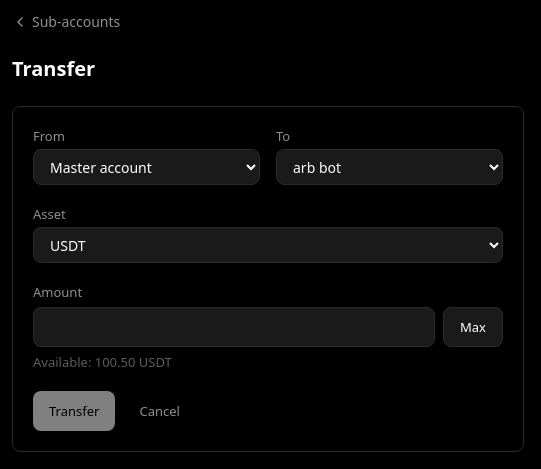
Scenario: Transfer › offers only unfrozen accounts, never the same one on both sides, and caps at the sender's balance
Expected: the dropdown named "To" shows "arb bot", top-left (276, 149), bottom-right (503, 185)
Expected: the text "Available: 100.50 USDT" is shown, top-left (33, 353), bottom-right (172, 371)
Type "101" into the field at (234, 327), box top-left (33, 307), bottom-right (435, 347)
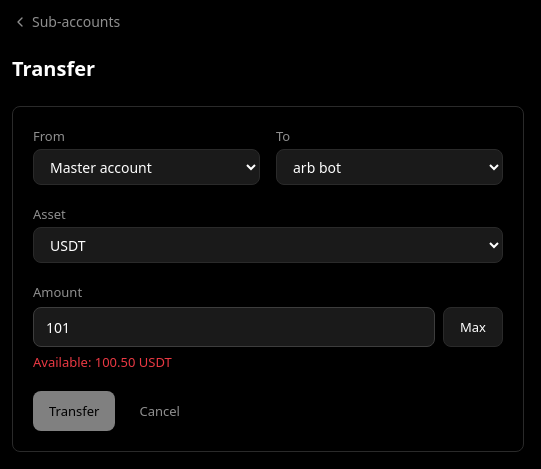
Expected: the button "Transfer" is disabled, top-left (33, 391), bottom-right (115, 431)
Click the button "Max" at (473, 327), box top-left (443, 307), bottom-right (503, 347)
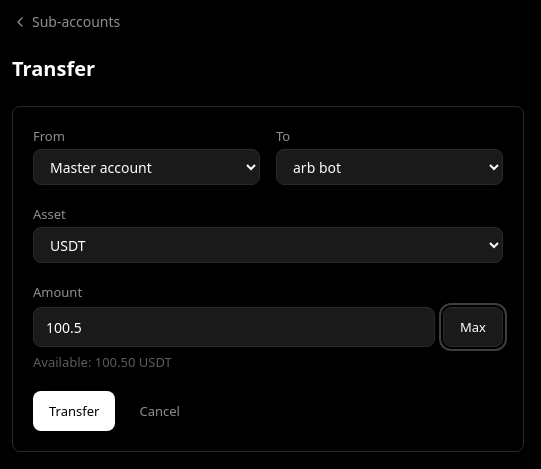
Result: the field holds "100.5" at top-left (33, 307), bottom-right (435, 347)
Click the button "Transfer" at (74, 411), box top-left (33, 391), bottom-right (115, 431)
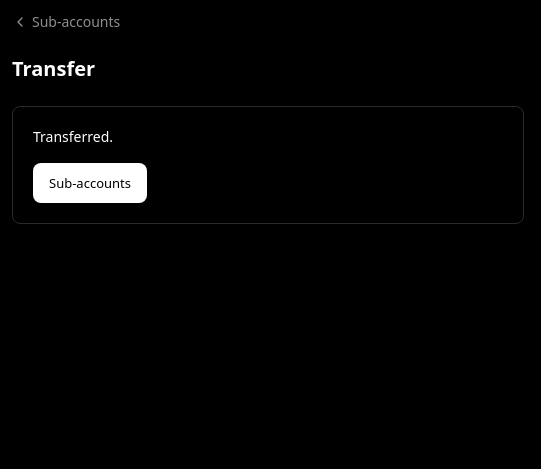
Result: the text "Transferred." is shown at top-left (33, 127), bottom-right (113, 146)
